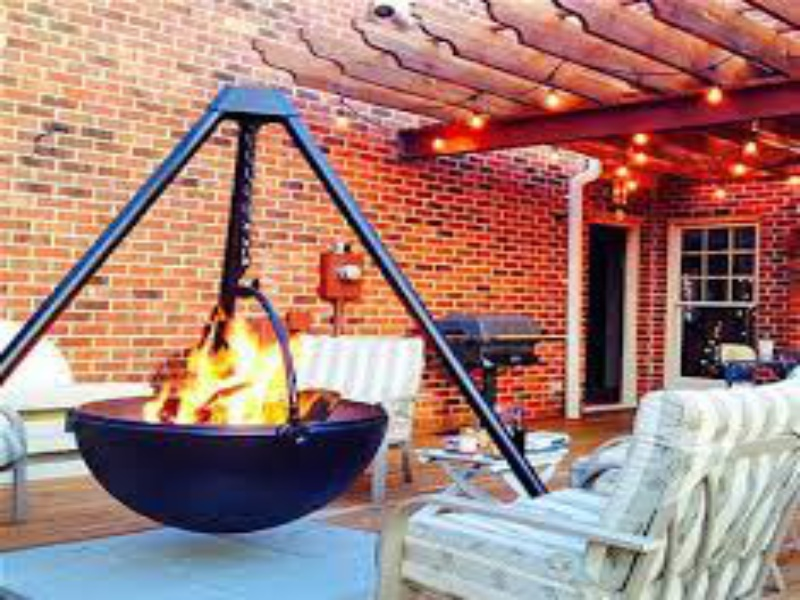fire: (143, 305, 306, 422)
